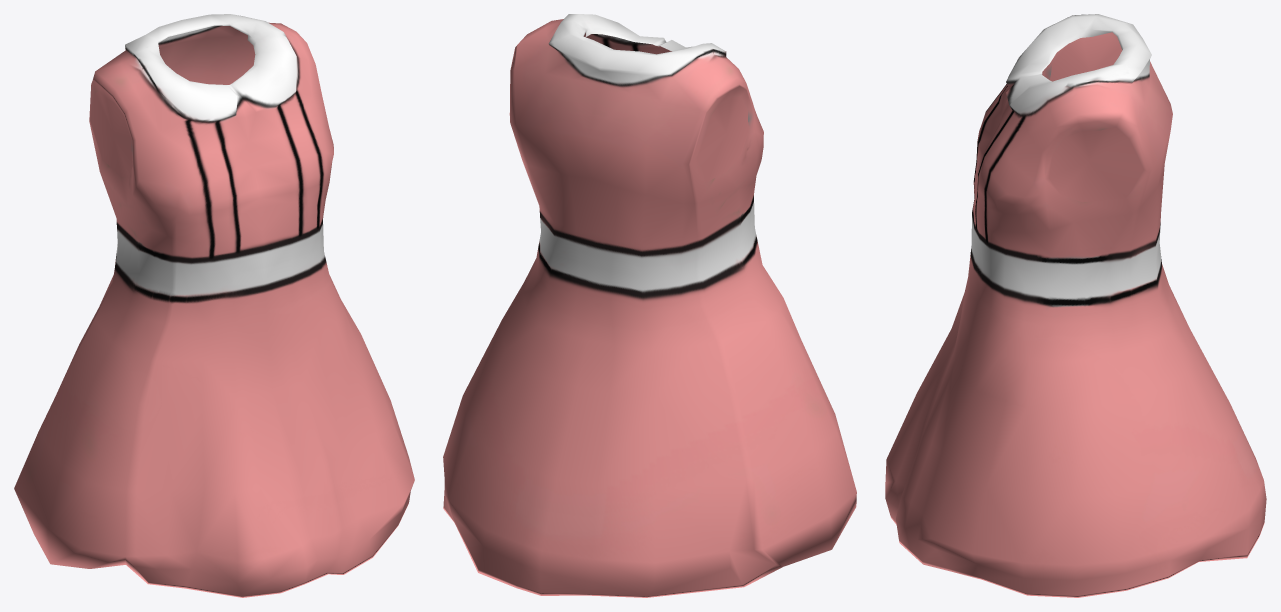
The model's file is AF_M_Jacket_G_10.fbx.
The picture shows the model from 3 angles, left to right: view 1: azimuth 30°, elevation 25°; view 2: azimuth 150°, elevation 25°; view 3: azimuth 270°, elevation 25°; orthographic projection. The views are drawn at different scales.
Parts seen in each view (by area): view 1: AF_M_Jacket_G_10; view 2: AF_M_Jacket_G_10; view 3: AF_M_Jacket_G_10.
Boxes of the visible parts, x1,y1,x2,y2 form: AF_M_Jacket_G_10: [14, 14, 414, 597]; AF_M_Jacket_G_10: [443, 14, 856, 597]; AF_M_Jacket_G_10: [885, 14, 1266, 597].
Bounding box in the file's own units: 539 × 710 × 510.
